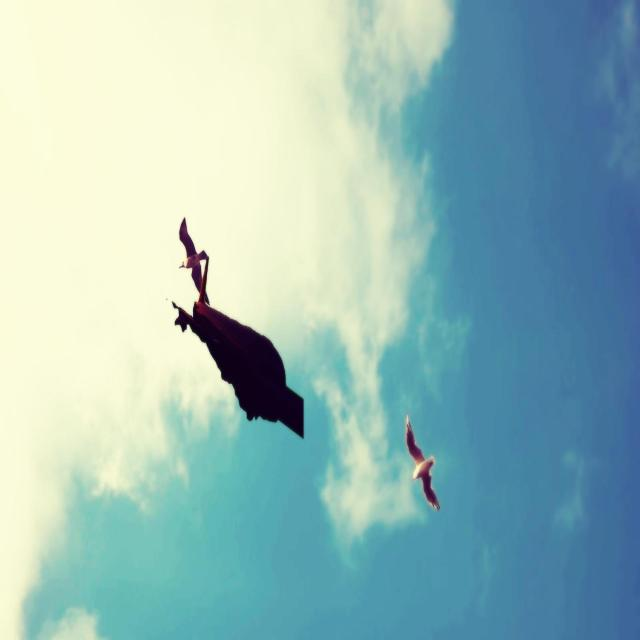airplane: (171, 301, 306, 439)
